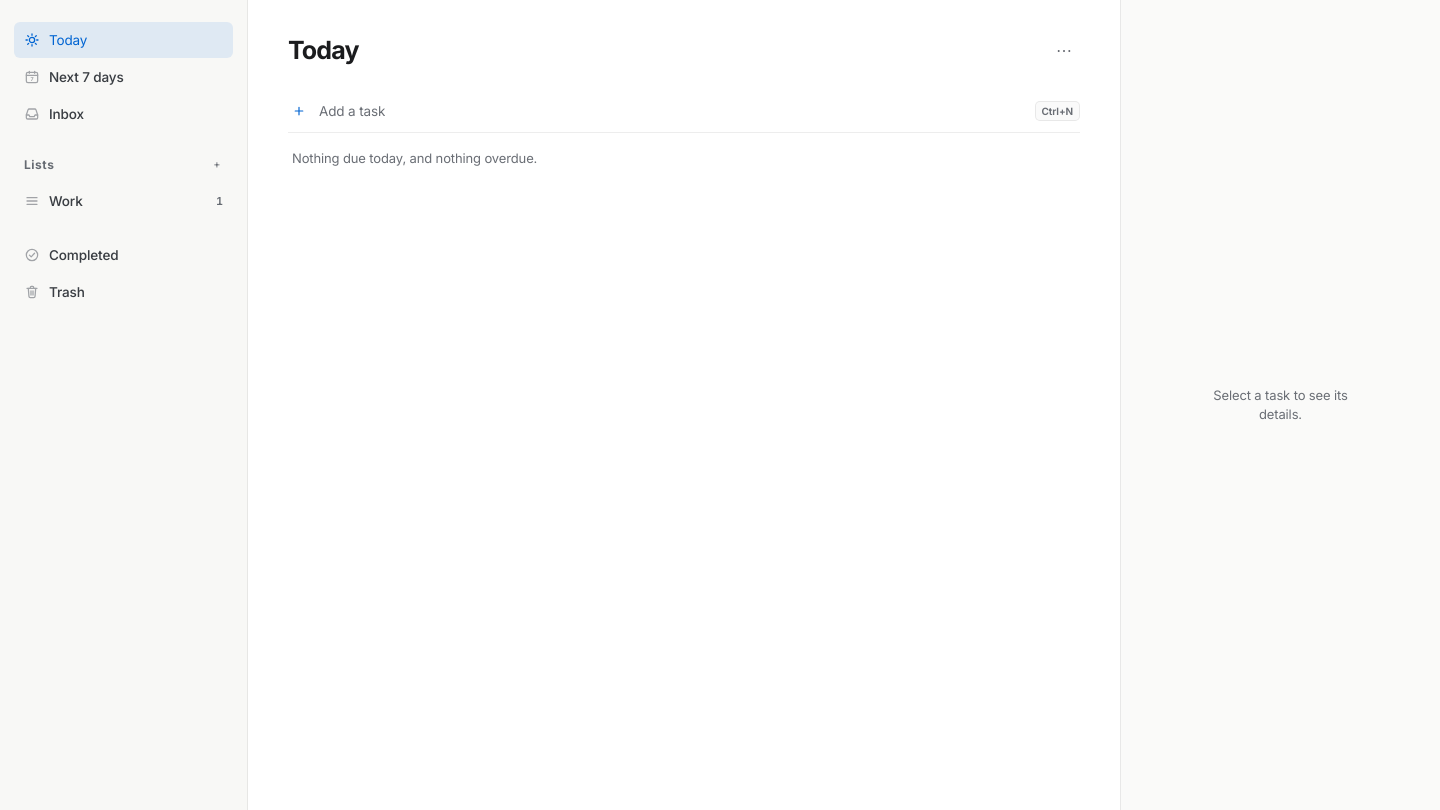
it: the Scope's menu › opens the dialog on a Scope that gathers several Lists
Click the button named "View and options" at (1064, 50), box [1048, 34, 1080, 66]
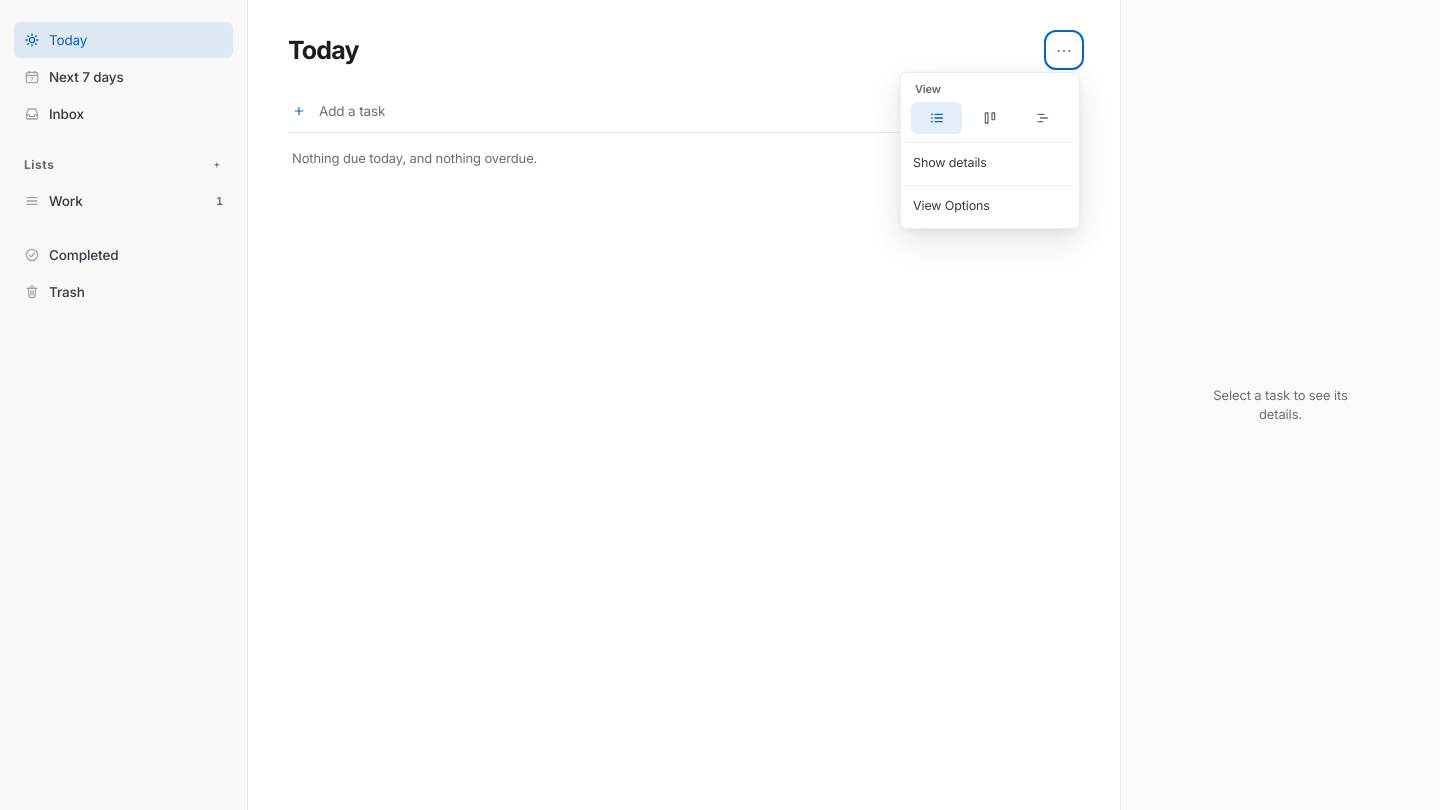
Click the menu item "View Options" at (951, 206), box [905, 190, 998, 224]
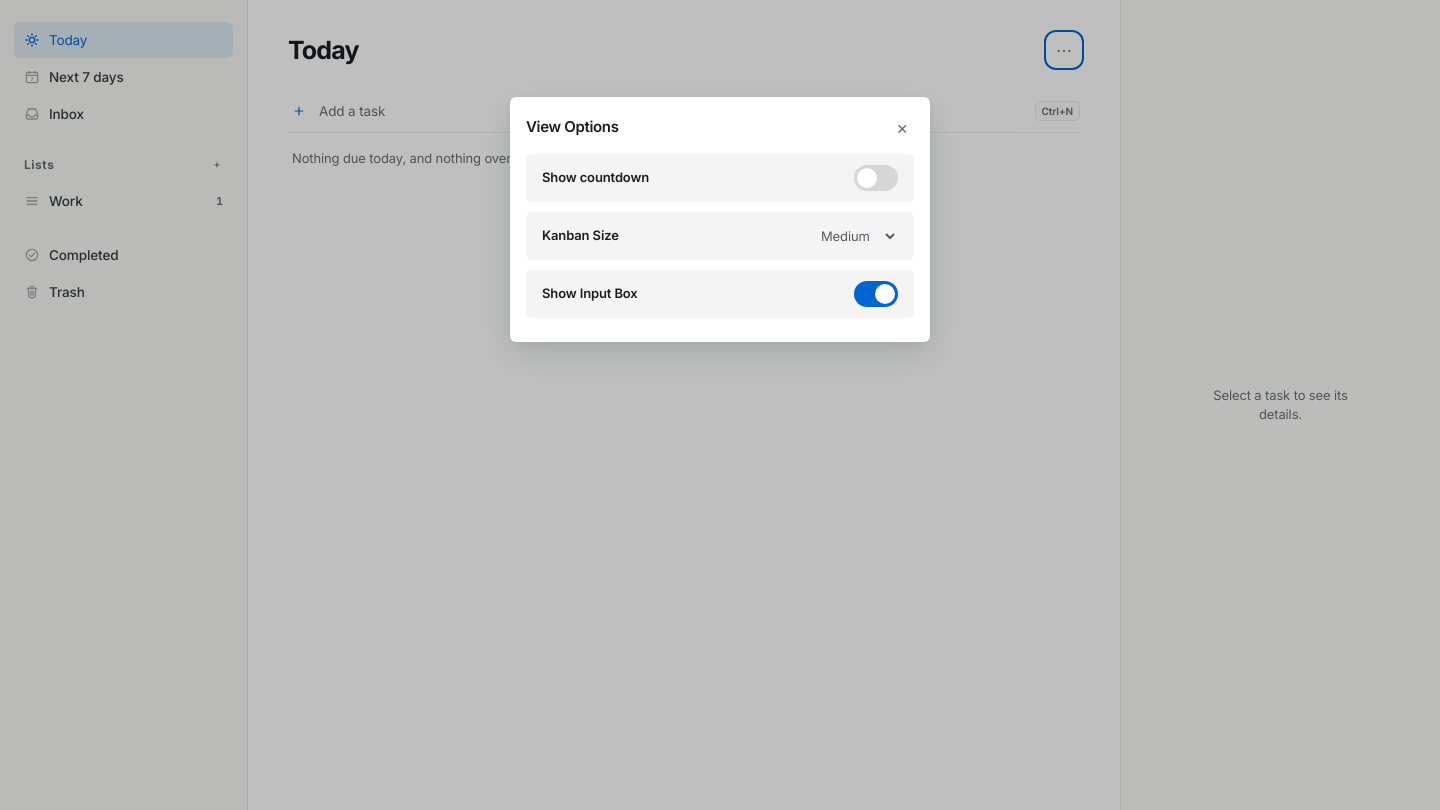
Expected: the dialog is shown, [510, 97, 930, 342]
